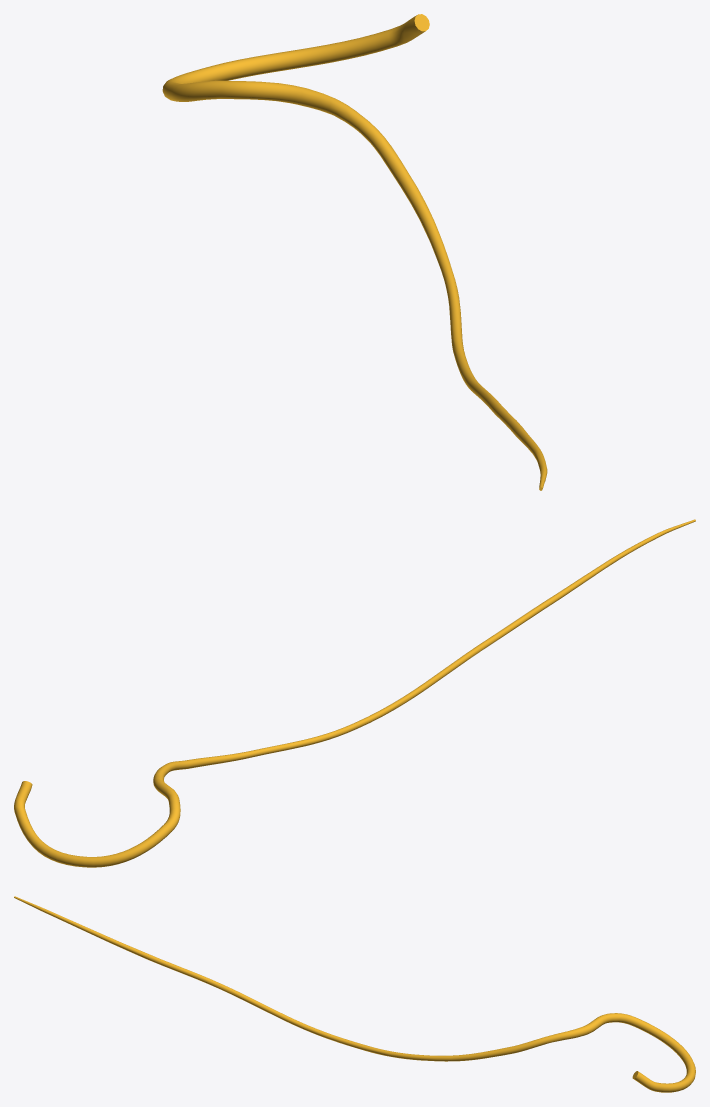
The model's file is nervoso-trochlear-nerve-iv-r.glb.
3 renders of one model, top to bottom at view 1: azimuth 30°, elevation 25°; view 2: azimuth 150°, elevation 25°; view 3: azimuth 270°, elevation 25°, orthographic. The views are drawn at different scales.
Parts seen in each view (by area): view 1: Trochlear nerve (IV).r; view 2: Trochlear nerve (IV).r; view 3: Trochlear nerve (IV).r.
Boxes of the visible parts, x1,y1,x2,y2 form: Trochlear nerve (IV).r: (162, 14, 547, 490); Trochlear nerve (IV).r: (14, 519, 695, 867); Trochlear nerve (IV).r: (14, 896, 695, 1092).
Bounding box in the file's own units: 0.032 × 0.0107 × 0.0739.
